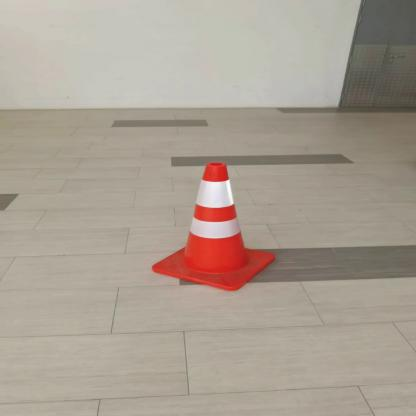cone: (150, 158, 278, 296)
